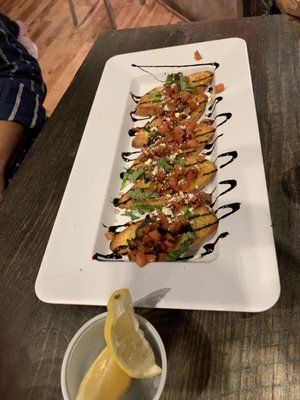curry: (2, 7, 299, 353)
